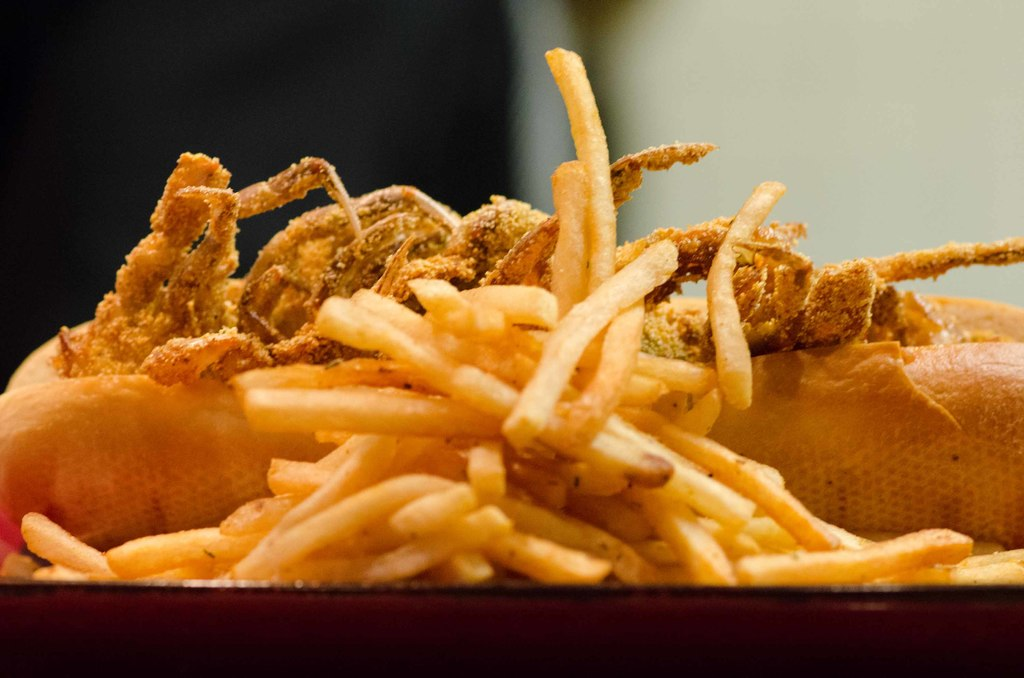French fries: (1, 146, 1017, 590)
